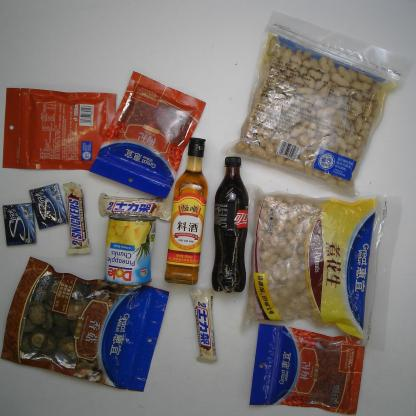Canned Food: (103, 215, 154, 287)
Chocolate: (182, 283, 218, 361), (93, 190, 172, 220), (64, 181, 93, 256)
Dried Food: (224, 11, 410, 195), (241, 181, 397, 340), (5, 257, 171, 390)
Dried Fruit: (90, 72, 206, 199), (251, 324, 365, 412), (5, 88, 116, 173)
Drink: (212, 151, 249, 294)
Gum: (31, 182, 65, 232), (1, 203, 36, 246)
Seasoner: (160, 137, 207, 287)
